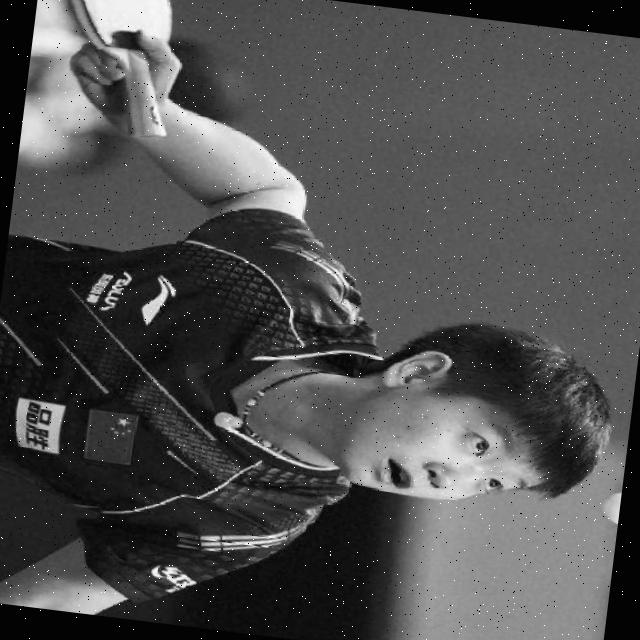ping-pong-ball: (592, 482, 622, 524)
